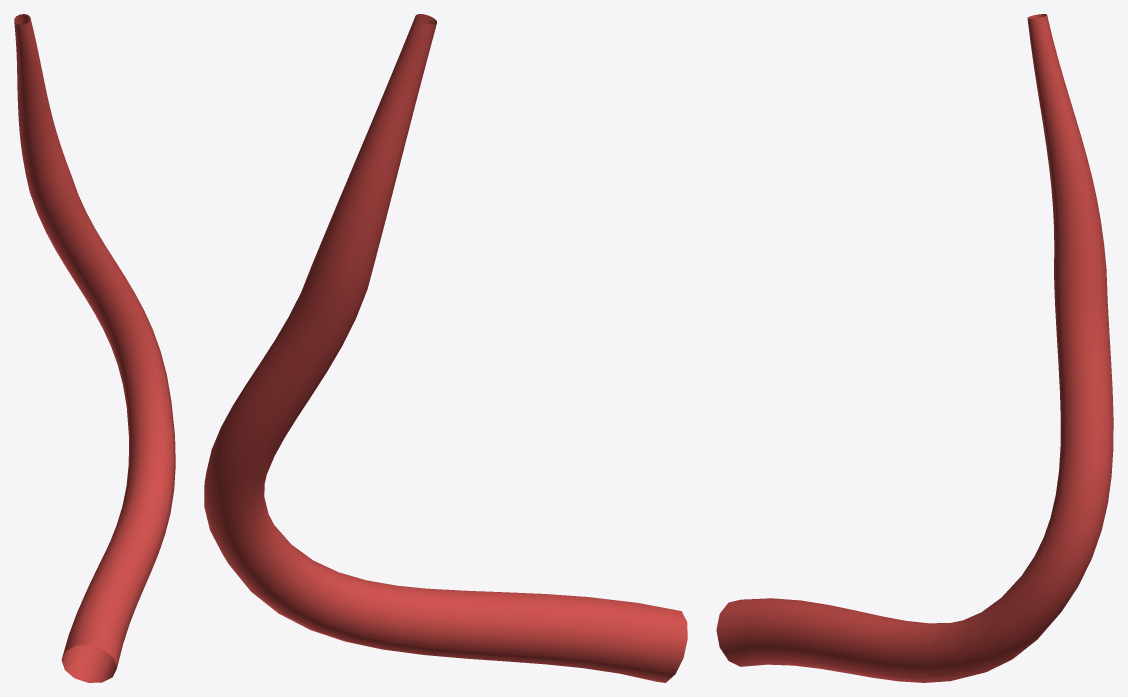
3 views of the same model, side by side, from view 1: azimuth 30°, elevation 25°; view 2: azimuth 150°, elevation 25°; view 3: azimuth 270°, elevation 25° (orthographic). The views are drawn at different scales.
Visible parts, largest first — view 1: 左侧胫后动脉跟支; view 2: 左侧胫后动脉跟支; view 3: 左侧胫后动脉跟支.
Boxes of the visible parts, bbox=[...] form: 左侧胫后动脉跟支: bbox=[14, 14, 175, 682]; 左侧胫后动脉跟支: bbox=[204, 14, 687, 682]; 左侧胫后动脉跟支: bbox=[716, 14, 1113, 682].
Size of the model in its own units: 0.0136 by 0.0326 by 0.0173.
